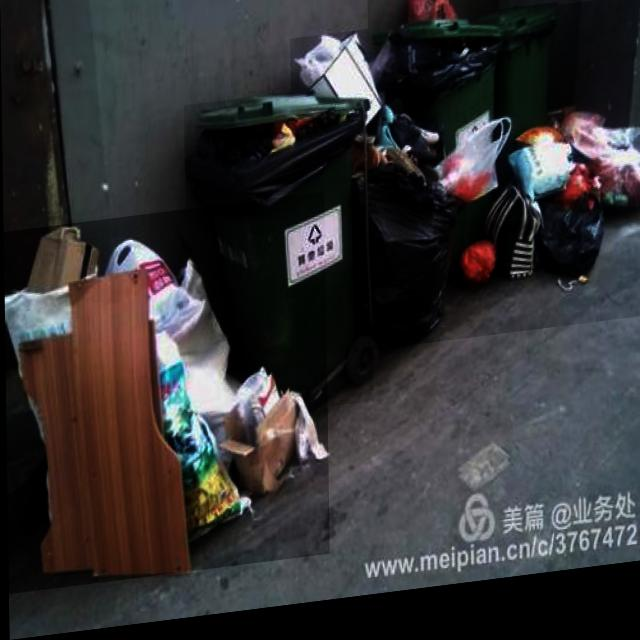garbage: (3, 200, 328, 594), (290, 12, 640, 367)
garbage_bin: (476, 17, 559, 146)
overflow: (183, 92, 372, 429), (367, 0, 502, 290)
